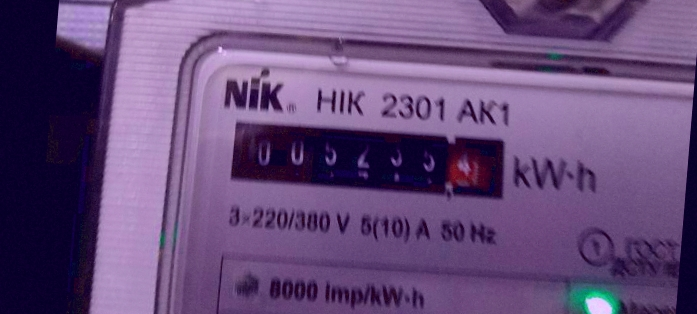0: (286, 134, 308, 168), (254, 135, 274, 168)
2: (352, 136, 375, 172)
3: (384, 137, 410, 172)
4: (452, 142, 477, 180)
5: (418, 138, 442, 176), (320, 135, 341, 169)
screen: (213, 103, 521, 214)
